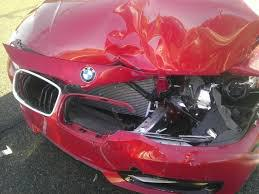bonnet-dent: (37, 10, 233, 73)
front-bumper-dent: (37, 73, 200, 149)
